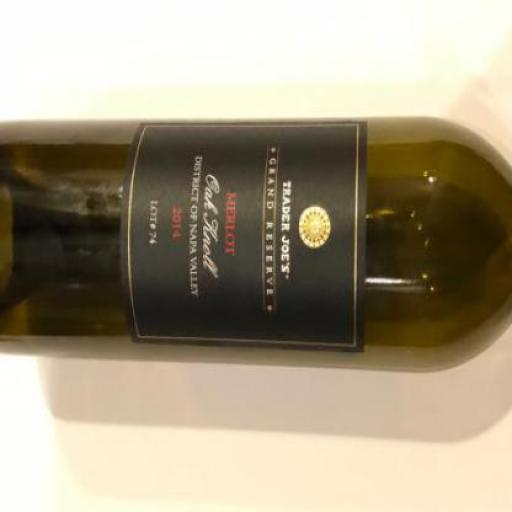glass: (0, 116, 511, 374)
